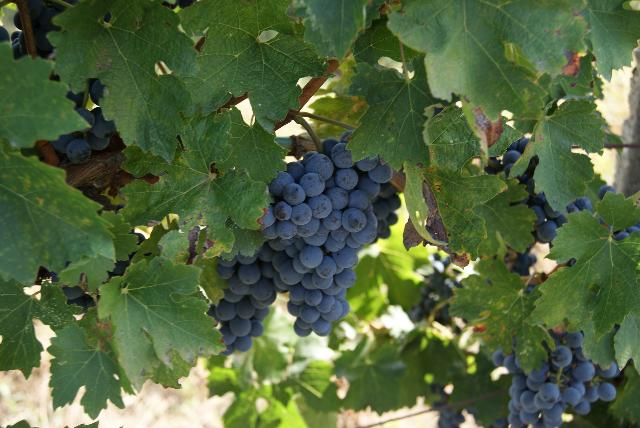grapes: (264, 139, 399, 336), (508, 331, 616, 428), (208, 254, 276, 356)
